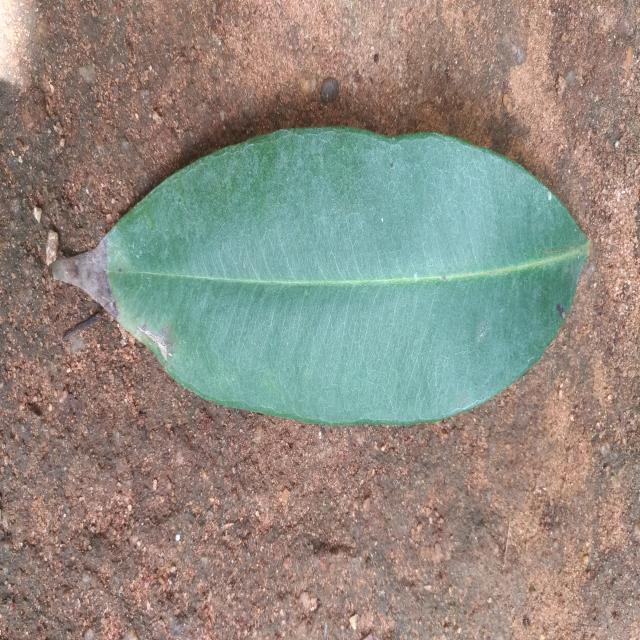nerale: (51, 127, 589, 424)
